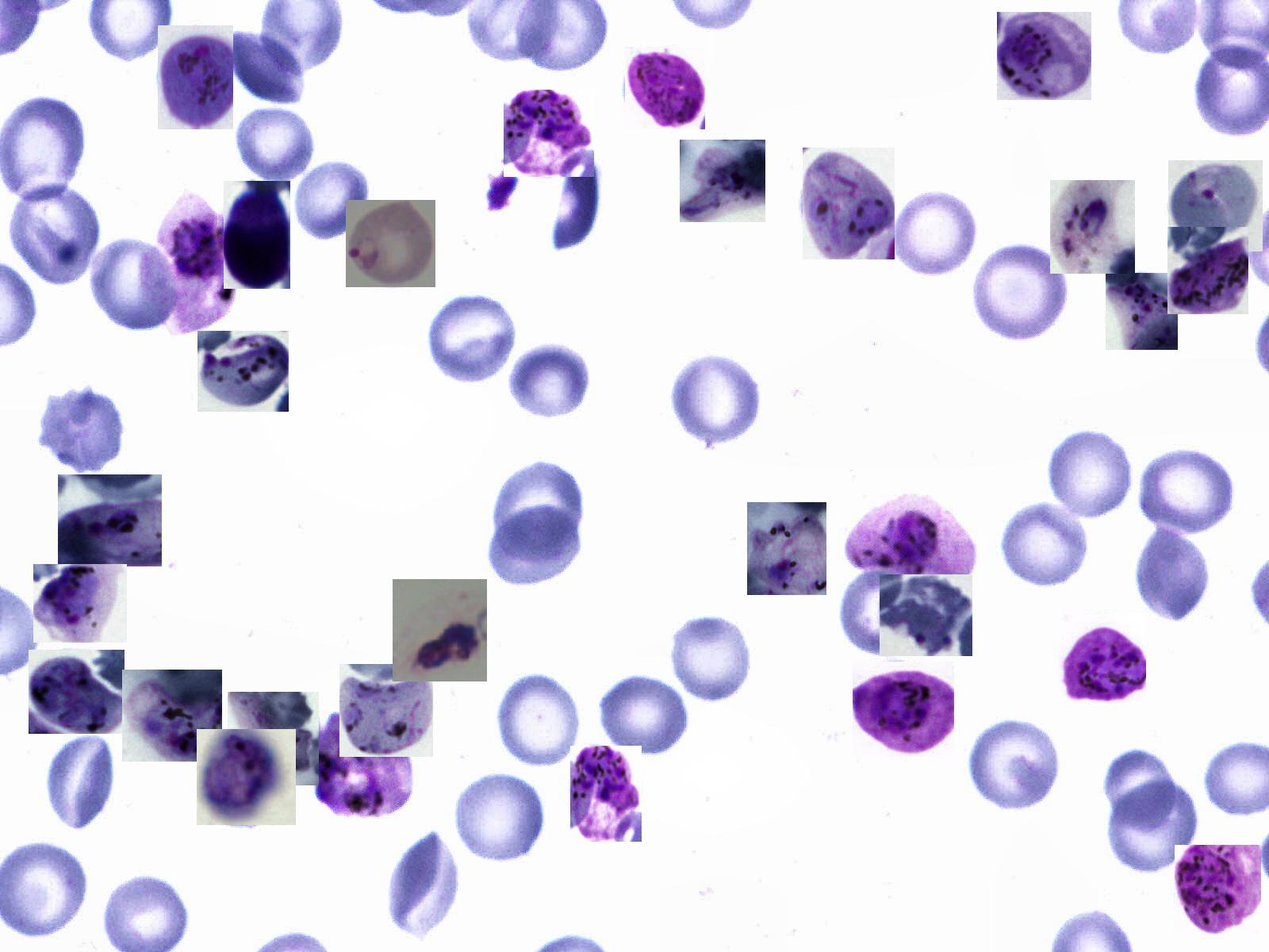Infected: (152, 190, 240, 336), (844, 495, 978, 584), (310, 708, 416, 819), (803, 148, 895, 259), (853, 662, 954, 757), (393, 579, 487, 681), (58, 474, 162, 566), (197, 729, 296, 825), (122, 670, 222, 762), (339, 664, 433, 757), (1168, 160, 1263, 251), (228, 692, 319, 785), (997, 12, 1091, 100), (29, 650, 125, 734), (1050, 180, 1135, 274), (1059, 614, 1146, 704), (504, 90, 594, 177), (158, 25, 233, 129), (347, 200, 436, 287), (1175, 845, 1261, 935), (880, 574, 972, 656), (197, 331, 289, 412), (33, 564, 127, 643), (747, 502, 826, 595), (224, 181, 290, 289), (1167, 227, 1248, 314), (680, 140, 765, 222), (570, 747, 642, 842), (625, 47, 705, 129), (1106, 273, 1178, 350)
Uninfected: (970, 240, 1070, 342), (12, 183, 102, 290), (967, 716, 1064, 812), (492, 459, 585, 558), (668, 351, 762, 448), (836, 566, 932, 659), (90, 236, 185, 328), (487, 503, 583, 592), (595, 670, 693, 757), (494, 670, 580, 769), (1110, 778, 1198, 874), (999, 499, 1091, 590), (454, 773, 547, 863), (890, 188, 981, 279), (35, 385, 128, 474), (1136, 449, 1233, 533), (427, 294, 518, 383), (1047, 428, 1135, 518), (389, 830, 457, 943), (1137, 526, 1213, 624), (289, 159, 374, 244), (670, 616, 749, 707), (233, 106, 323, 184), (46, 734, 116, 833), (510, 341, 592, 420), (1105, 749, 1177, 834), (228, 29, 306, 104)
